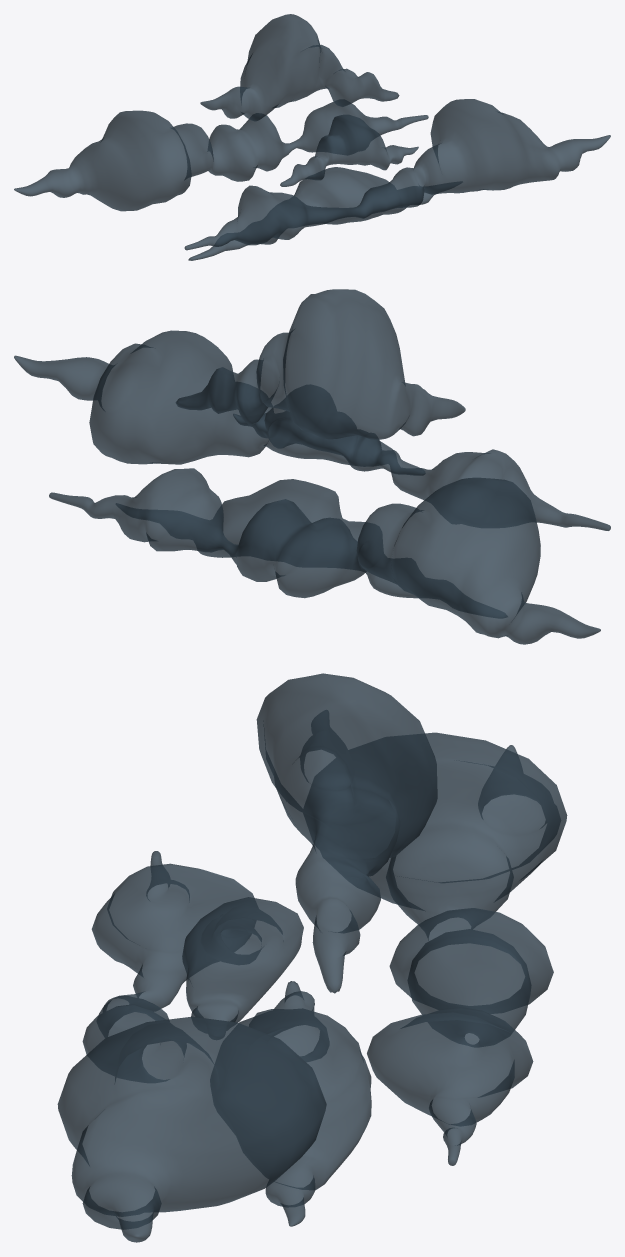
The model's file is Clouds_smooth_more.fbx.
3 views of the same model, one above another, from view 1: azimuth 30°, elevation 25°; view 2: azimuth 150°, elevation 25°; view 3: azimuth 270°, elevation 25° (orthographic). The views are drawn at different scales.
Visible parts, largest first — view 1: Cloud_FG1, Cloud_BG1, Cloud_MG2, Cloud_BBG1, Cloud_MG3; view 2: Cloud_BG1, Cloud_FG1, Cloud_MG2, Cloud_MG3, Cloud_BBG1; view 3: Cloud_FG1, Cloud_BG1, Cloud_MG2, Cloud_MG3, Cloud_BBG1.
Boxes of the visible parts, <box> form: Cloud_FG1: <box>184,99,610,250</box>; Cloud_BG1: <box>14,102,428,211</box>; Cloud_MG2: <box>200,14,399,121</box>; Cloud_BBG1: <box>280,114,418,186</box>; Cloud_MG3: <box>188,167,436,260</box>; Cloud_BG1: <box>49,468,600,644</box>; Cloud_FG1: <box>14,330,610,530</box>; Cloud_MG2: <box>175,289,465,439</box>; Cloud_MG3: <box>198,479,417,598</box>; Cloud_BBG1: <box>233,407,425,475</box>; Cloud_FG1: <box>57,851,326,1242</box>; Cloud_BG1: <box>367,732,567,1165</box>; Cloud_MG2: <box>256,673,437,993</box>; Cloud_MG3: <box>239,981,371,1226</box>; Cloud_BBG1: <box>182,897,303,1022</box>.
Size of the model in its own units: 705 by 282 by 310.
